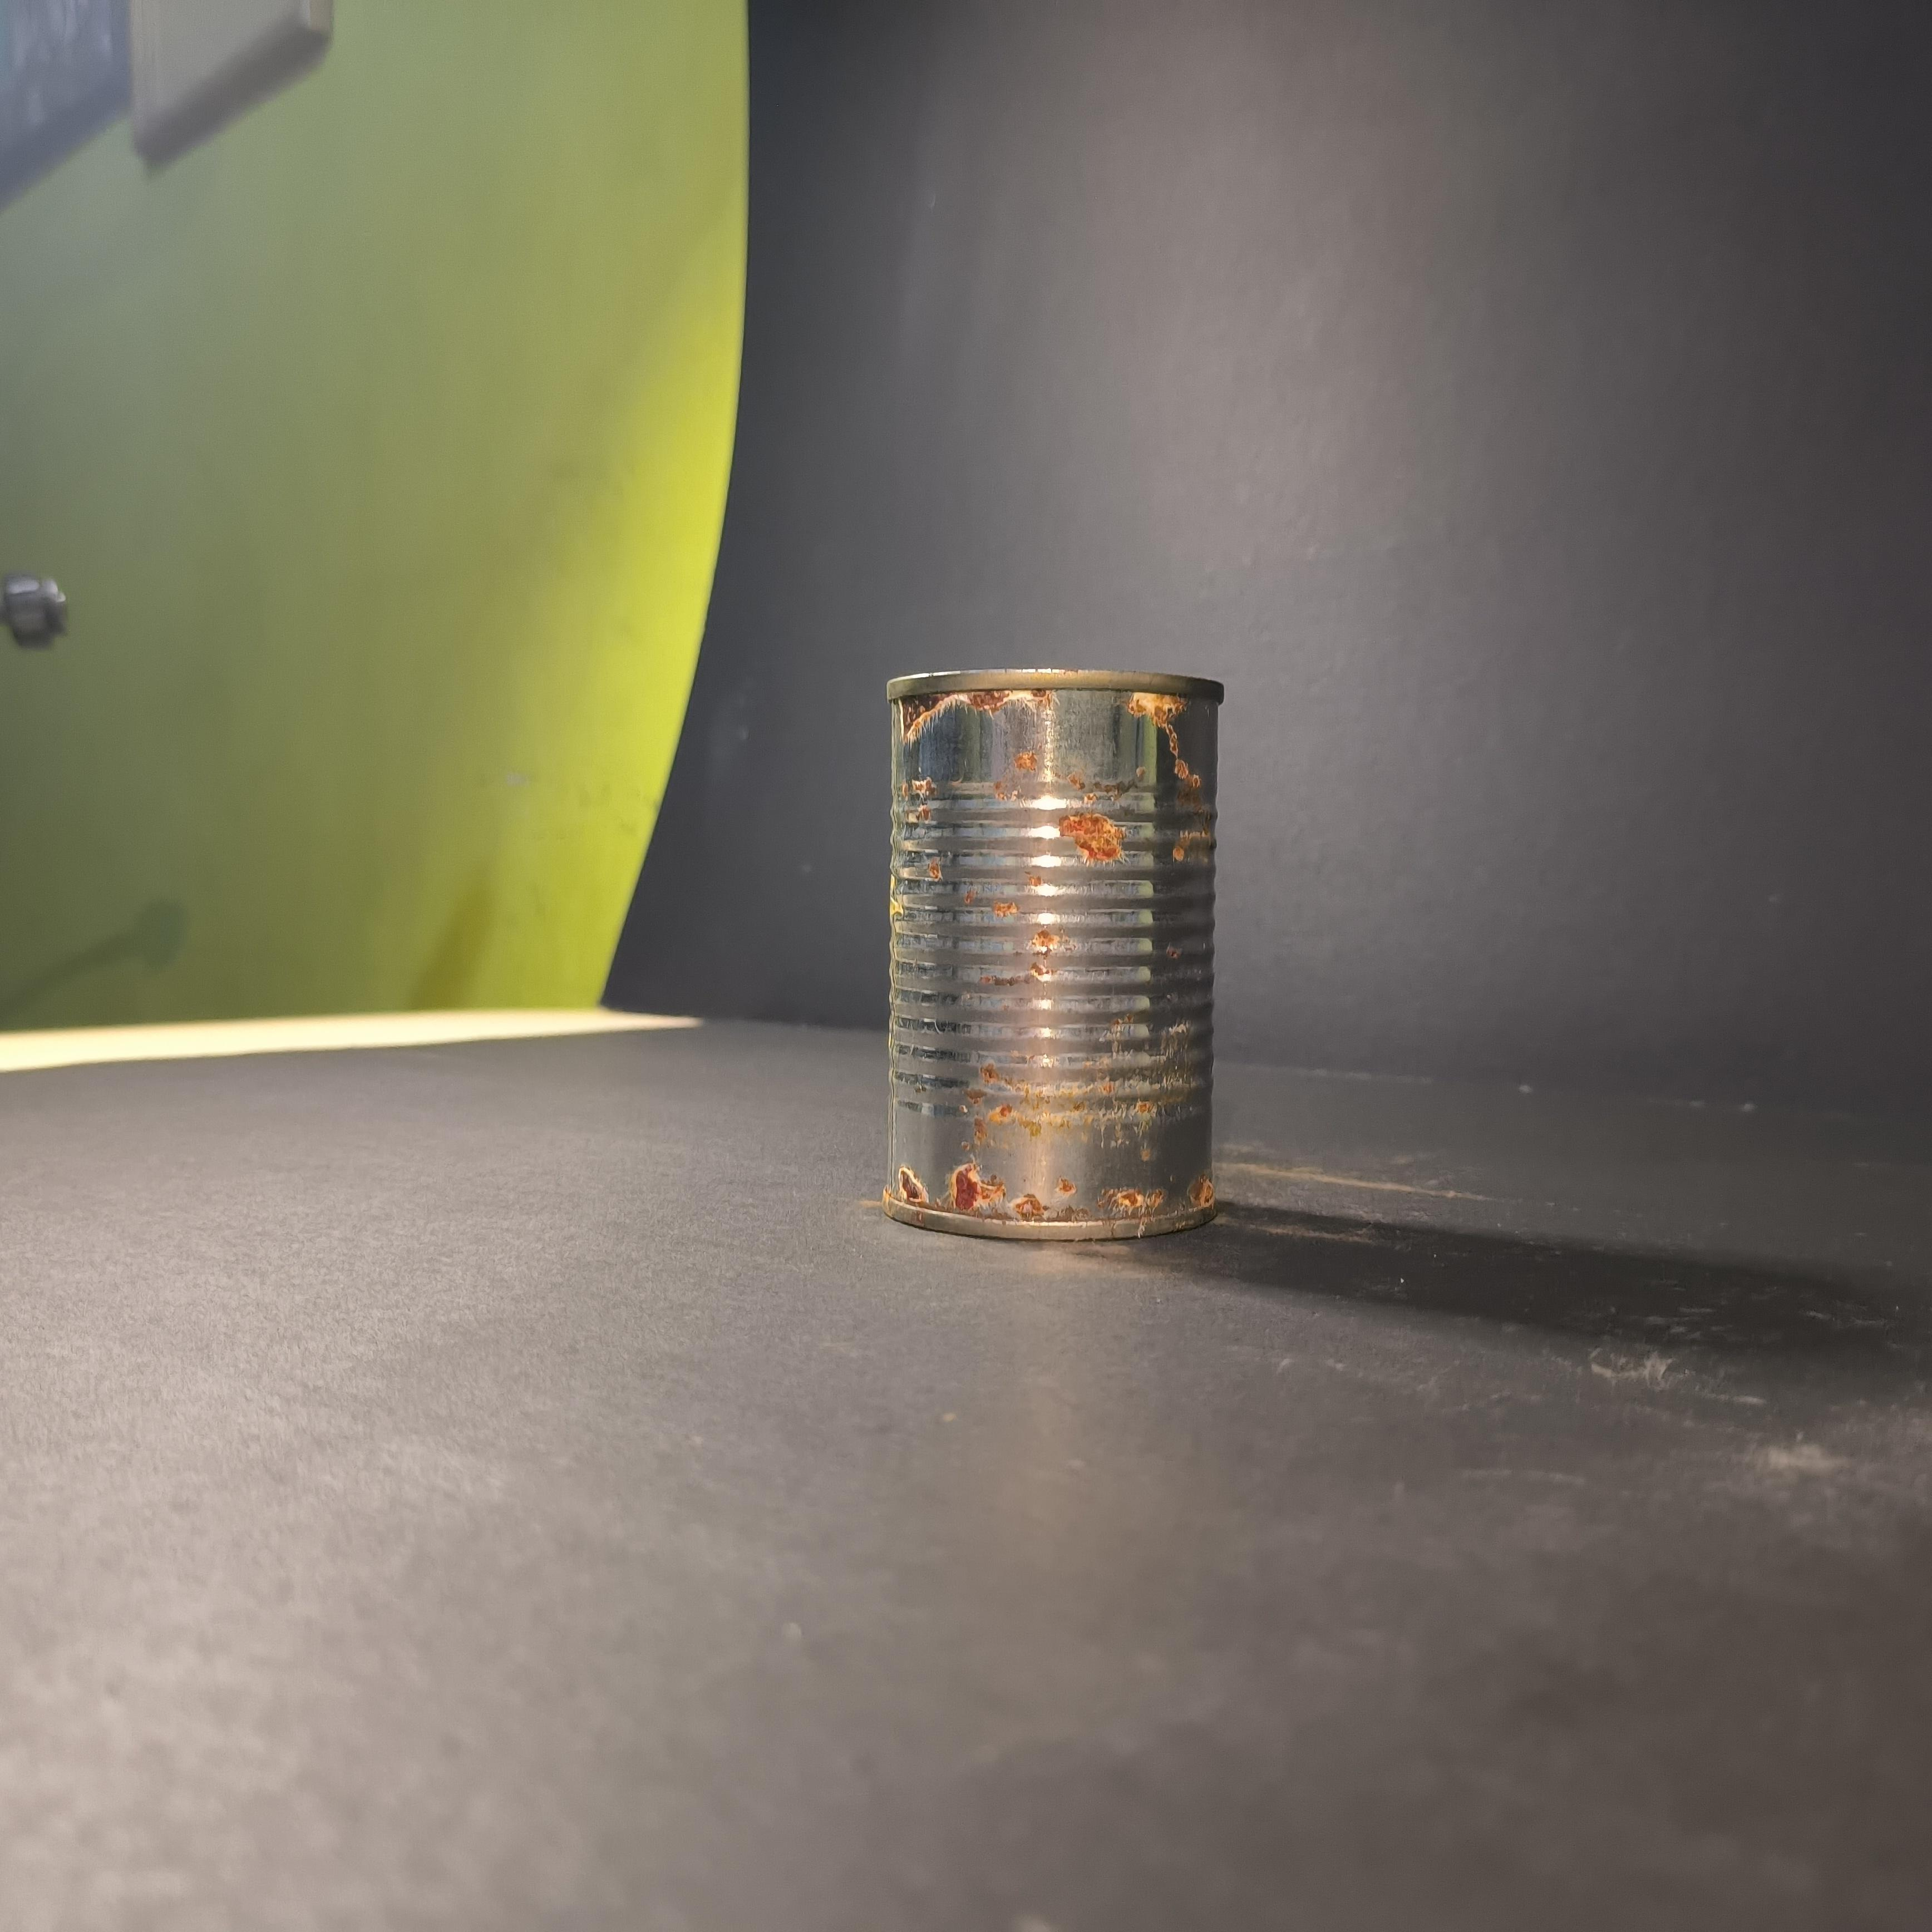Rusted: (869, 642, 1238, 1254)
